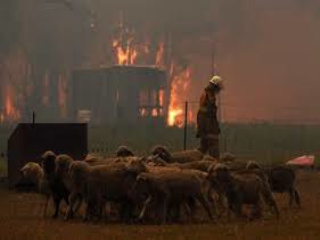fire: (154, 49, 191, 126), (110, 33, 144, 65), (6, 90, 18, 119)
